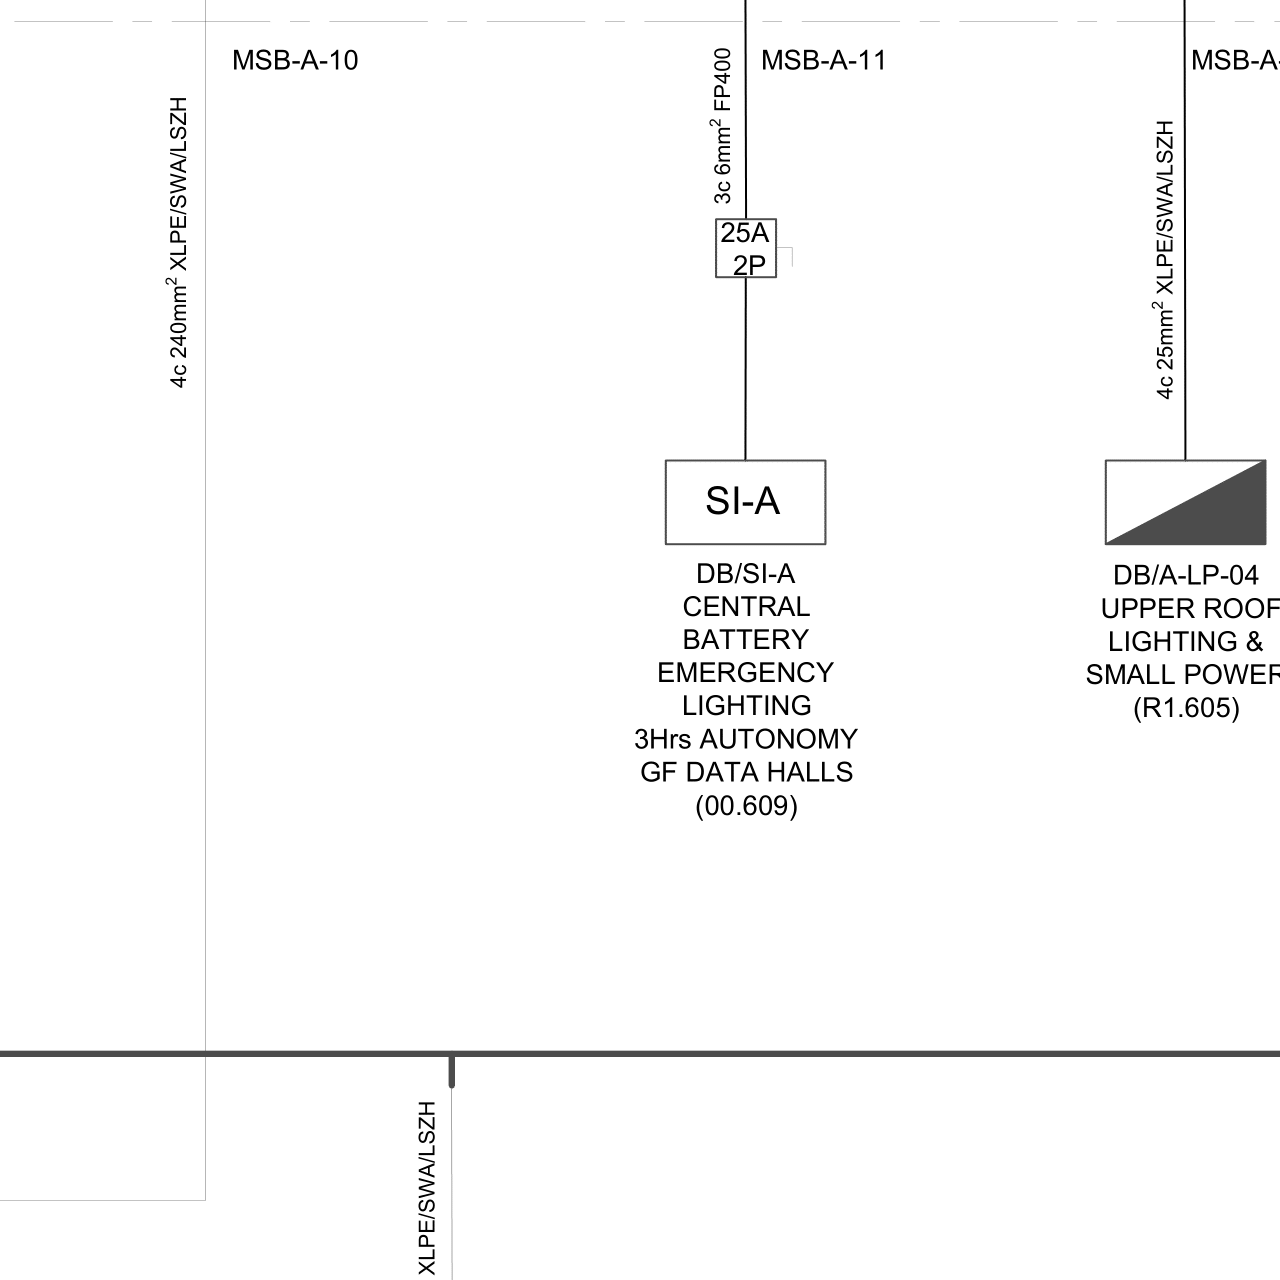Distribution Board: (1092, 450, 1280, 557)
